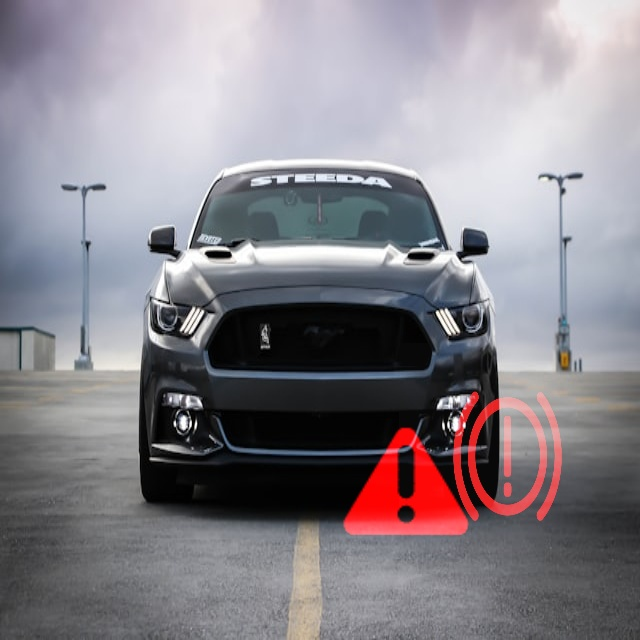symbol: (399, 343, 615, 559), (308, 385, 503, 580)
